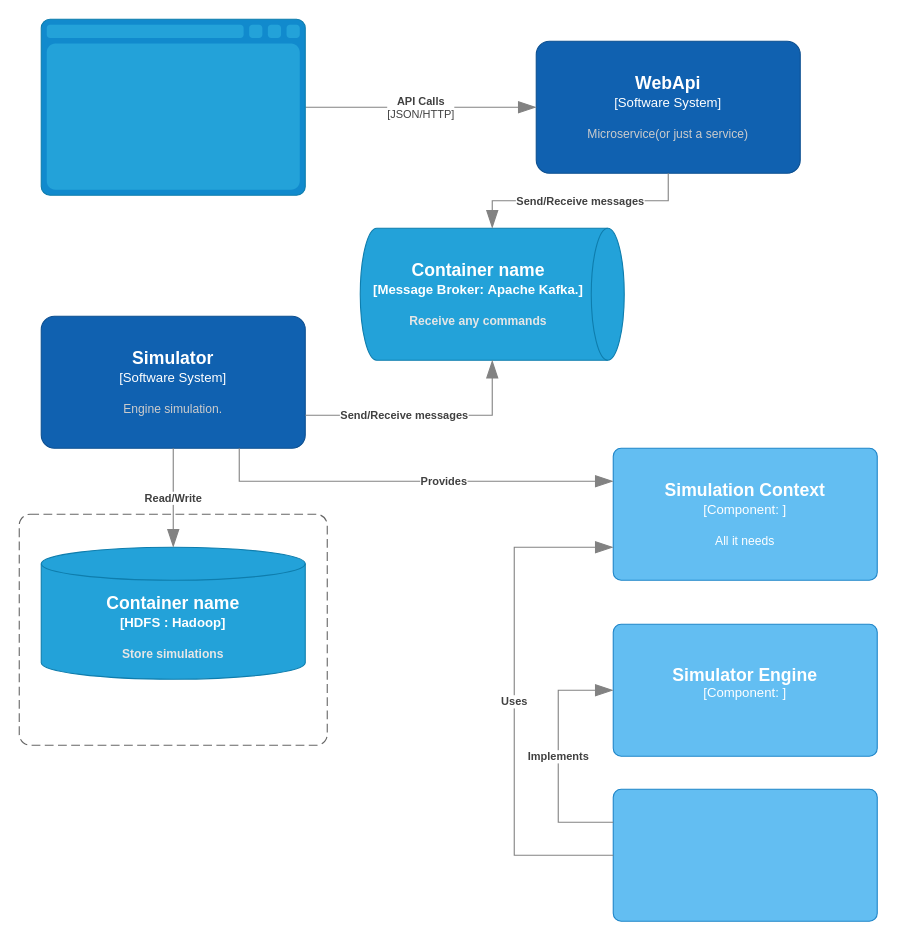
Some shapes in this 897 by 941 pixel diagram are drawn without their labels. The box of each missing label's shape, as (x1, y1, x2, y2) in pixels:
bhtree-engine [Component: Simulation Engine] Burnes-Hut Tree: (612, 788, 877, 921)
Container name [WebApp: Javascript, WebGL?]: (40, 18, 305, 195)
Persistance [Hadoop/HDFS]: (18, 513, 327, 745)
